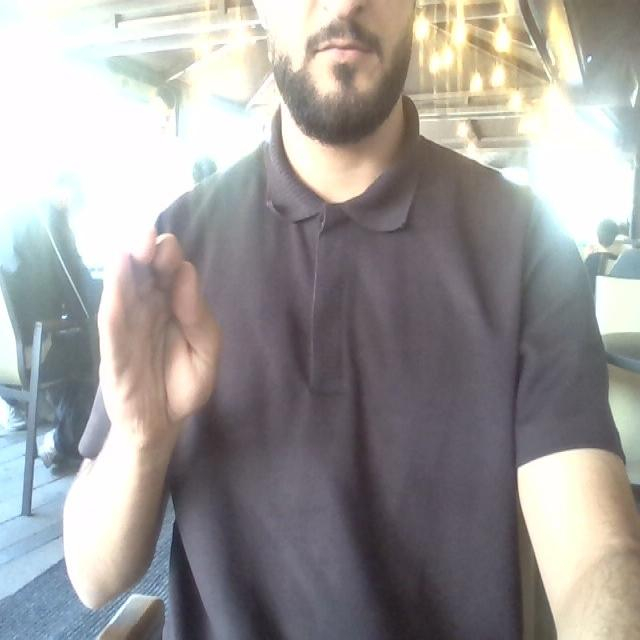Hand: (98, 232, 218, 447)
